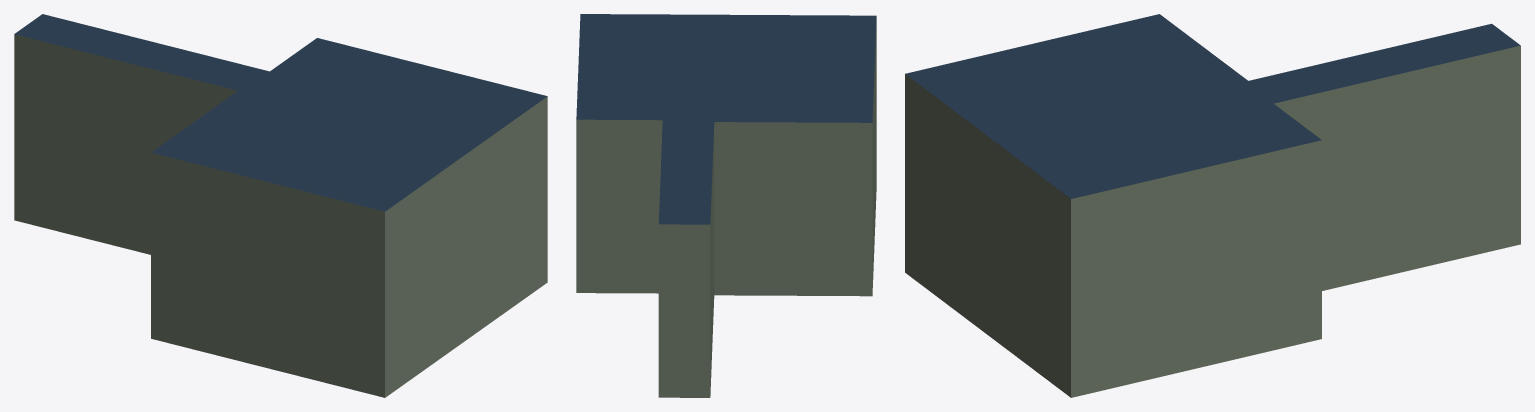
File: nyc-1024691-0.glb
3 views of the same model, side by side, from view 1: azimuth 30°, elevation 25°; view 2: azimuth 150°, elevation 25°; view 3: azimuth 270°, elevation 25° (orthographic). The views are drawn at different scales.
Visible parts, largest first — view 1: nyc-1024691-0; view 2: nyc-1024691-0; view 3: nyc-1024691-0.
Boxes of the visible parts, x1,y1,x2,y2 form: nyc-1024691-0: [14, 14, 547, 397]; nyc-1024691-0: [576, 14, 876, 397]; nyc-1024691-0: [905, 14, 1520, 397].
Bounding box in the file's own units: 47.17 × 23.63 × 66.31.
